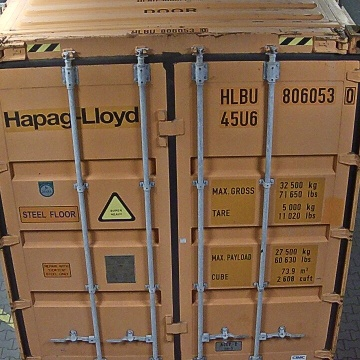serial_id: (221, 87, 355, 103)
